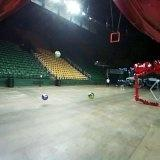Green_Balloon: (88, 92, 95, 100), (55, 50, 61, 59)
Orange_Square_GShape: (110, 32, 120, 43)
Purple_Balloon: (42, 94, 48, 102)
